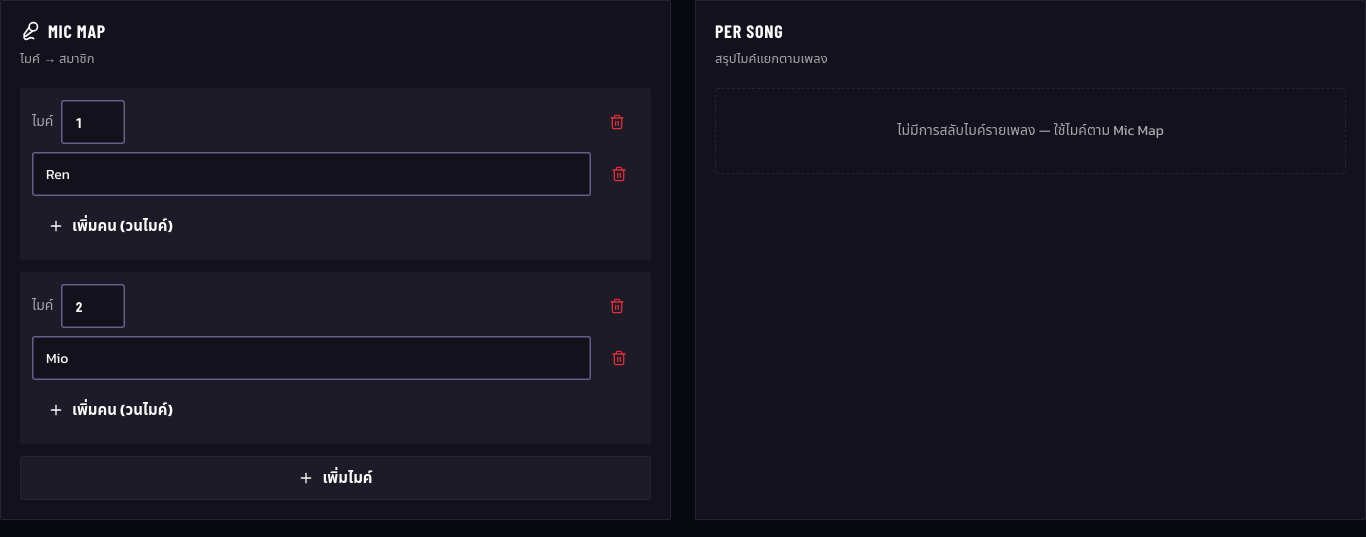
Scenario: desktop Mic Map vs a server that is up and answering badly › a 503 HTML page on a holder's name is queued for replay, and the tab says saved
Replace the text in the field named "ผู้ถือไมค์ 1" with "Ren (กีตาร์)" at (311, 174), box [32,152,591,196]
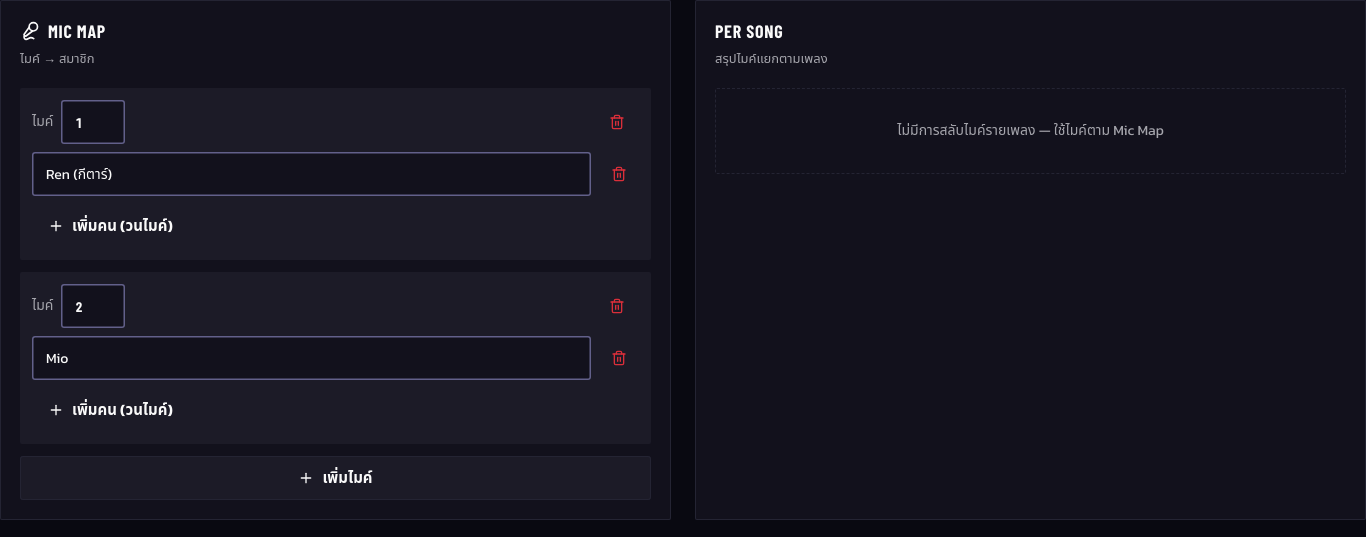
Leave the field named "ผู้ถือไมค์ 1", box [32,152,591,196]
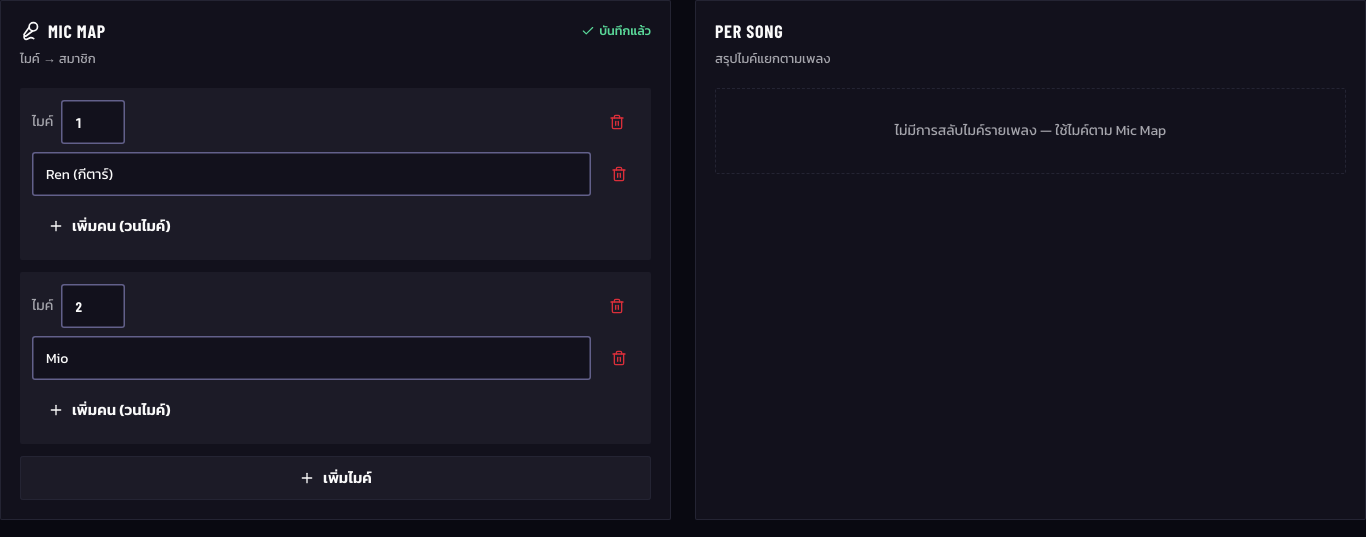
Now the text "บันทึกแล้ว" is shown, box [581,23,651,39]
